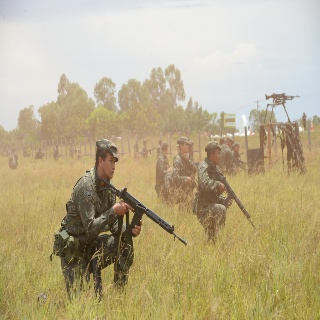rifle: (94, 175, 187, 249), (206, 161, 257, 235)
